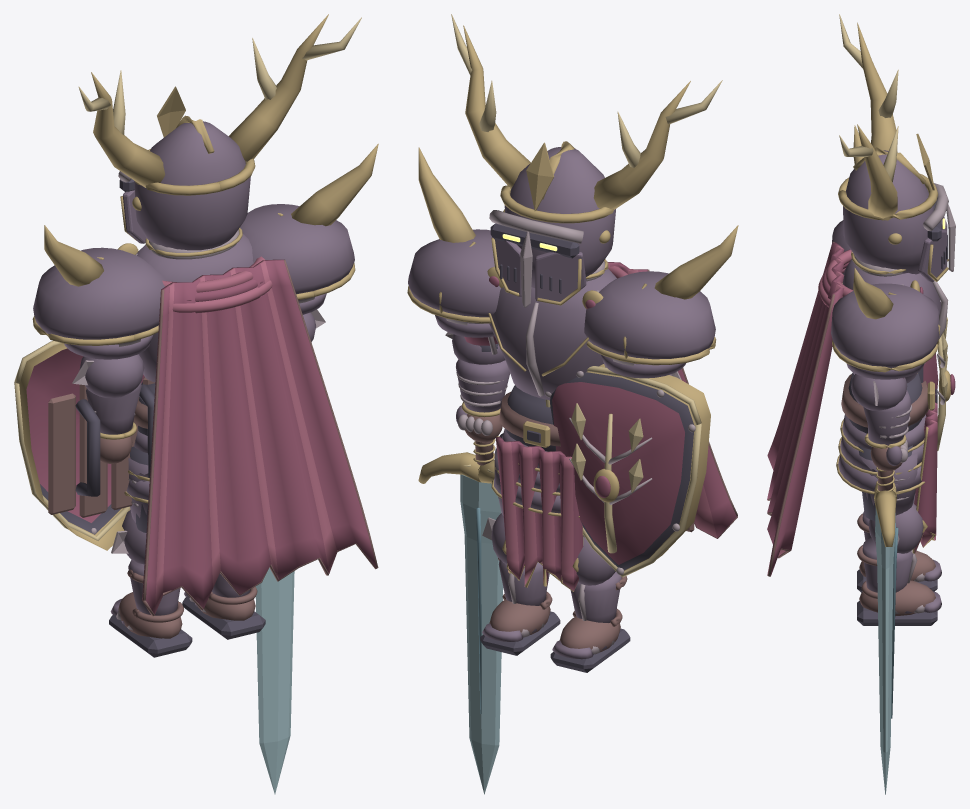
Rendered from thorn_lord.glb.
The picture shows the model from 3 angles, left to right: view 1: azimuth 30°, elevation 25°; view 2: azimuth 150°, elevation 25°; view 3: azimuth 270°, elevation 25°; orthographic projection. The views are drawn at different scales.
Visible parts, largest first — view 1: Cape | crafted armor, Head | crafted armor, Shield | crafted armor, UpperArmL | crafted armor, UpperArmR | crafted armor, Moonsteel blade, Torso | crafted armor, ForearmL | crafted armor, FootL | crafted armor, ShinL | crafted armor, FootR | crafted armor, Hips | crafted armor (+3 smaller); view 2: Shield | crafted armor, Head | crafted armor, UpperArmL | crafted armor, UpperArmR | crafted armor, Tabard | crafted armor, Torso | crafted armor, Moonsteel blade, Hips | crafted armor, ForearmR | crafted armor, ShinL | crafted armor, FootL | crafted armor, FootR | crafted armor (+4 smaller); view 3: Head | crafted armor, Cape | crafted armor, UpperArmR | crafted armor, Hips | crafted armor, Moonsteel blade, ForearmR | crafted armor, Torso | crafted armor, ShinR | crafted armor, FootR | crafted armor, Tabard | crafted armor, Sword | crafted armor, Shield | crafted armor (+4 smaller).
Part boxes in pixels (x1=…): Cape | crafted armor: x1=142, y1=259, x2=378, y2=616; Head | crafted armor: x1=78, y1=14, x2=361, y2=250; Shield | crafted armor: x1=14, y1=340, x2=154, y2=550; UpperArmL | crafted armor: x1=32, y1=225, x2=167, y2=359; UpperArmR | crafted armor: x1=240, y1=143, x2=378, y2=314; Moonsteel blade: x1=255, y1=567, x2=294, y2=794; Torso | crafted armor: x1=117, y1=227, x2=272, y2=382; ForearmL | crafted armor: x1=72, y1=354, x2=144, y2=439; FootL | crafted armor: x1=109, y1=592, x2=192, y2=657; ShinL | crafted armor: x1=111, y1=510, x2=183, y2=622; FootR | crafted armor: x1=182, y1=592, x2=265, y2=639; Hips | crafted armor: x1=124, y1=381, x2=155, y2=503; Shield | crafted armor: x1=545, y1=364, x2=710, y2=577; Head | crafted armor: x1=451, y1=14, x2=722, y2=307; UpperArmL | crafted armor: x1=584, y1=225, x2=738, y2=378; UpperArmR | crafted armor: x1=407, y1=147, x2=500, y2=345; Tabard | crafted armor: x1=495, y1=436, x2=583, y2=591; Torso | crafted armor: x1=487, y1=259, x2=627, y2=400; Moonsteel blade: x1=460, y1=474, x2=503, y2=794; Hips | crafted armor: x1=491, y1=385, x2=579, y2=517; ForearmR | crafted armor: x1=445, y1=332, x2=510, y2=417; ShinL | crafted armor: x1=570, y1=537, x2=627, y2=626; FootL | crafted armor: x1=550, y1=616, x2=630, y2=672; FootR | crafted armor: x1=480, y1=599, x2=560, y2=655; Head | crafted armor: x1=838, y1=14, x2=955, y2=282; Cape | crafted armor: x1=767, y1=241, x2=844, y2=576; UpperArmR | crafted armor: x1=831, y1=268, x2=940, y2=379; Hips | crafted armor: x1=836, y1=372, x2=937, y2=494; Moonsteel blade: x1=875, y1=508, x2=895, y2=794; ForearmR | crafted armor: x1=851, y1=374, x2=912, y2=448; Torso | crafted armor: x1=818, y1=249, x2=948, y2=383; ShinR | crafted armor: x1=857, y1=503, x2=927, y2=598; FootR | crafted armor: x1=857, y1=580, x2=941, y2=625; Tabard | crafted armor: x1=912, y1=393, x2=937, y2=553; Sword | crafted armor: x1=874, y1=467, x2=898, y2=718; Shield | crafted armor: x1=917, y1=317, x2=955, y2=450.
Size of the model in its own units: 1.94 by 4.35 by 1.08.
